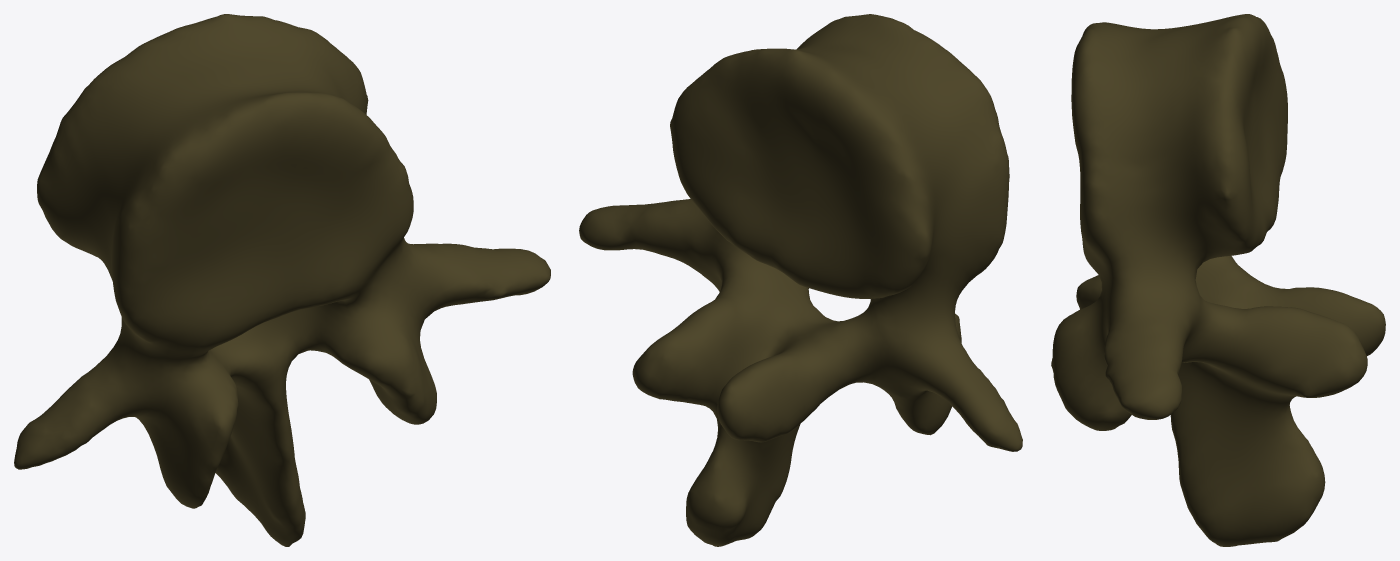
The model's file is segmentations_vertebrae_L3.obj.
The picture shows the model from 3 angles, left to right: view 1: azimuth 30°, elevation 25°; view 2: azimuth 150°, elevation 25°; view 3: azimuth 270°, elevation 25°; orthographic projection. The views are drawn at different scales.
Visible parts, largest first — view 1: grp1; view 2: grp1; view 3: grp1.
Part boxes in pixels (x1=…): grp1: x1=14, y1=14, x2=550, y2=546; grp1: x1=579, y1=14, x2=1022, y2=546; grp1: x1=1051, y1=14, x2=1385, y2=546.
Bounding box in the file's own units: 56.29 × 58.09 × 35.77.
